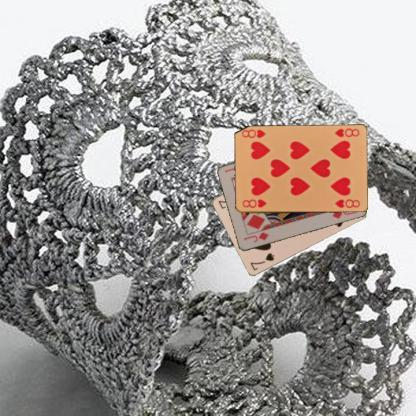7s: (247, 251, 276, 272)
8h: (240, 196, 268, 209), (332, 126, 361, 138)
Jd: (241, 230, 270, 244)
